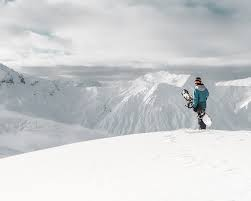snowboard: (180, 89, 213, 129)
